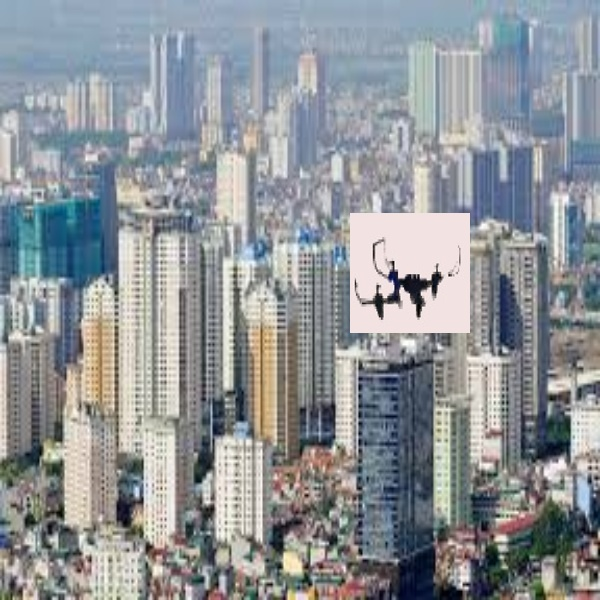drone: (353, 229, 468, 336)
